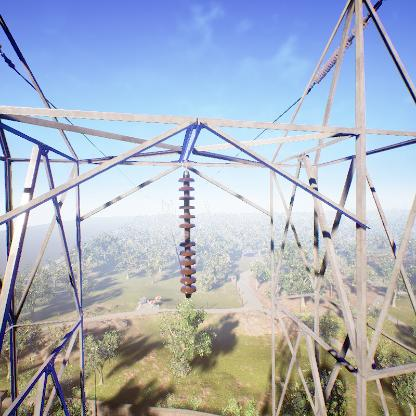insulator: (175, 174, 198, 296)
